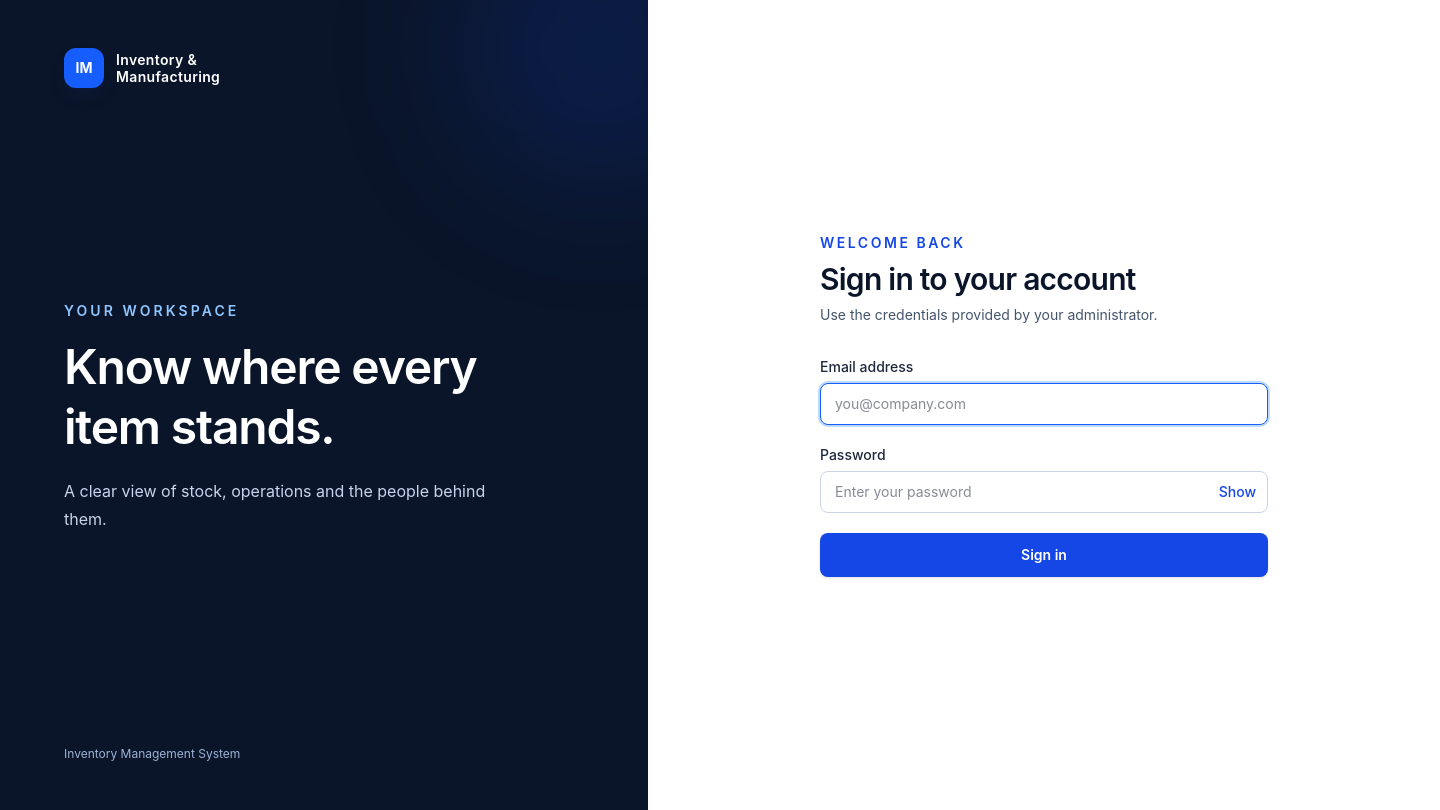
Test: frontend authentication › shows the backend lockout message
This screenshot has width=1440, height=810.
Expected: the heading "Sign in to your account" is shown, [820,261,1136,297]
Type "admin@example.com" into the field labelled "Email address".
click(1044, 404); type("admin@example.com")  # box [820,383,1268,425]
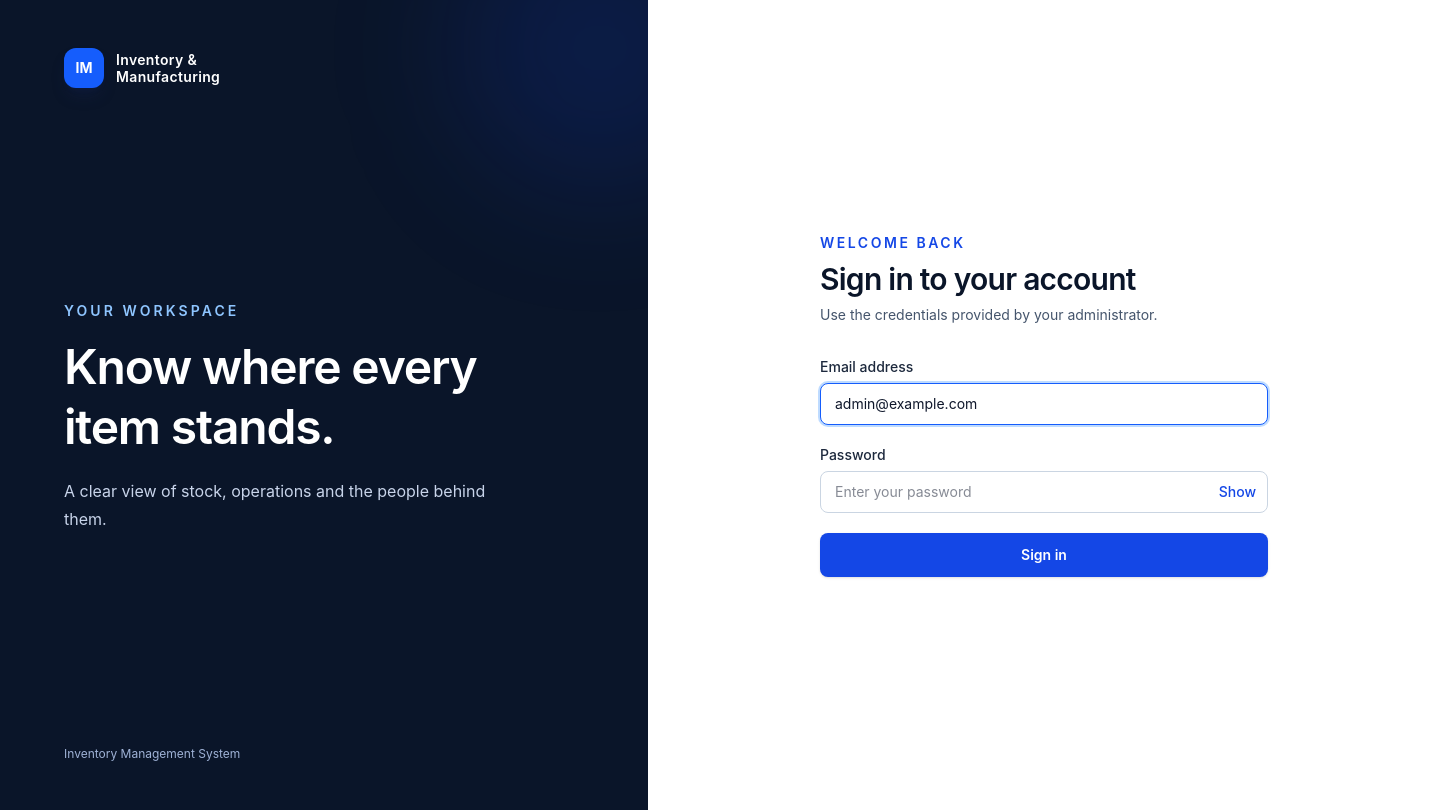
Type "correct-password" into the password field labelled "Password".
click(1044, 492); type("correct-password")  # box [820,471,1268,513]
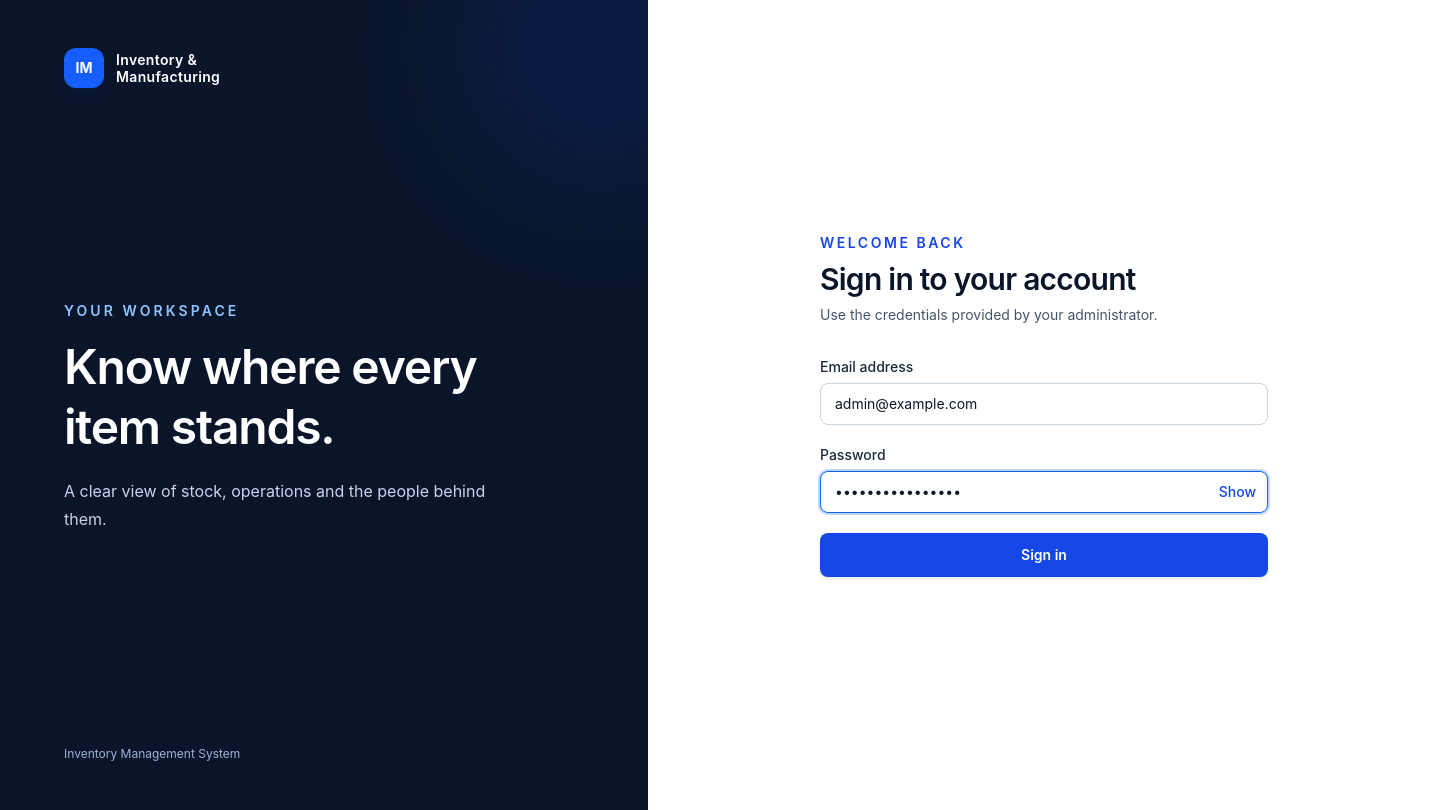
Click the button "Sign in".
click(1044, 555)  # box [820,533,1268,577]
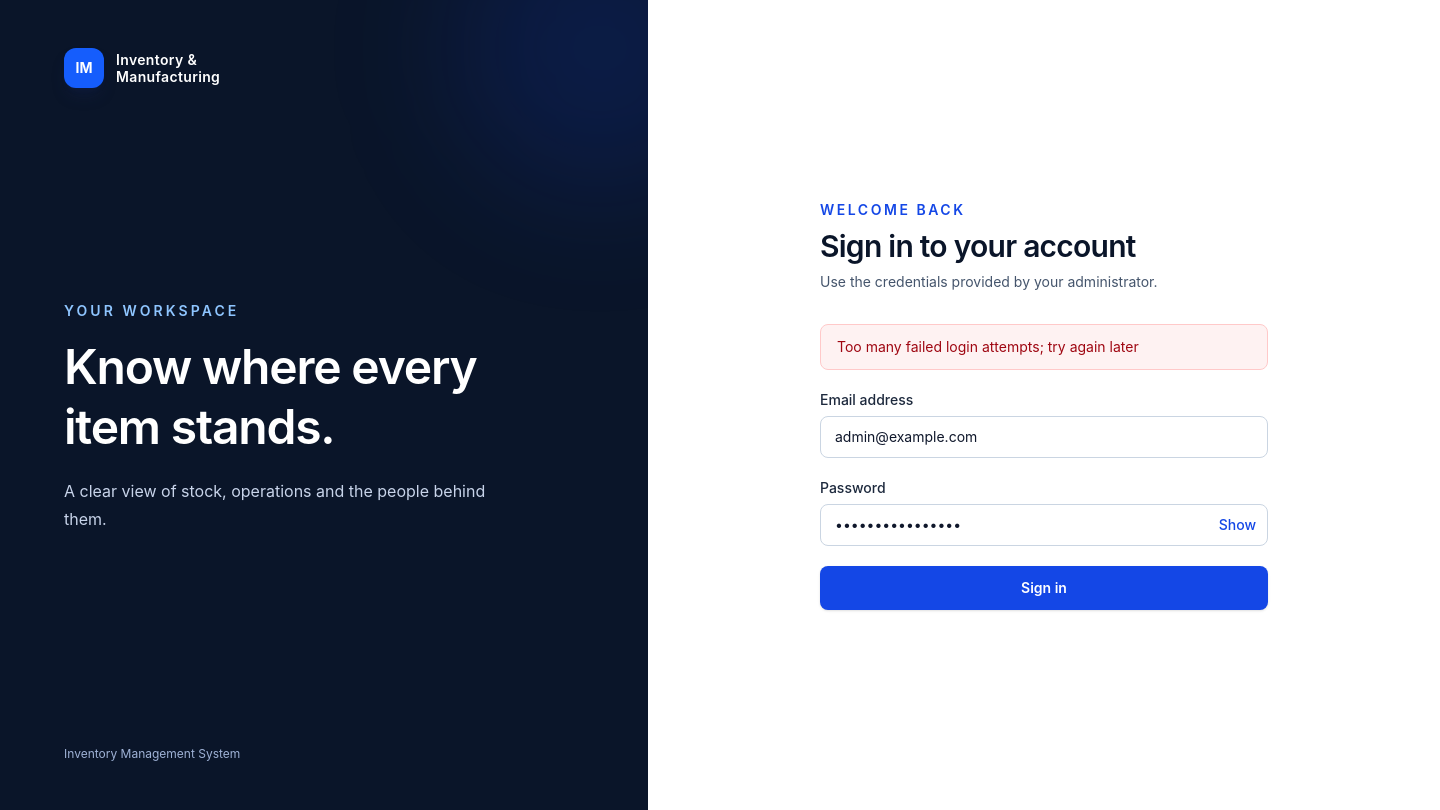
Expected: the message shows "Too many failed login attempts", [837,338,1139,355]
